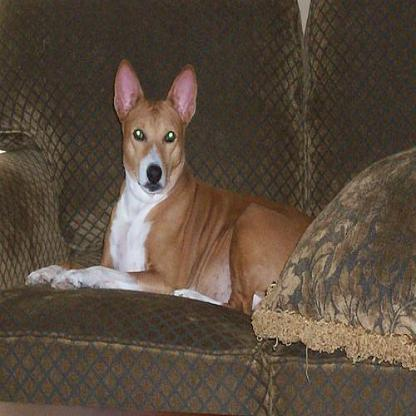basenji: (22, 55, 314, 310)
